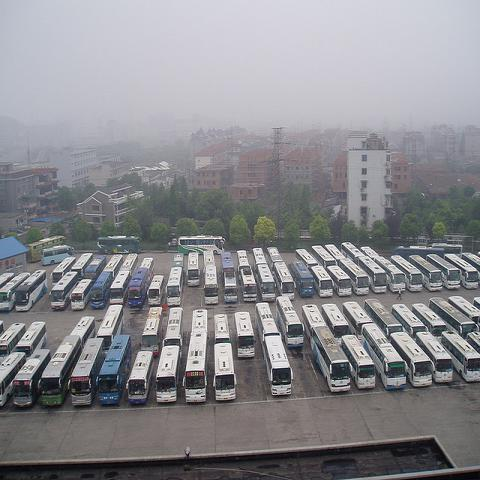bus: (1, 233, 479, 412), (41, 334, 83, 407), (310, 326, 353, 392), (12, 348, 52, 406), (263, 335, 294, 396), (186, 328, 209, 404), (126, 351, 155, 405), (275, 296, 304, 348), (255, 302, 281, 355), (213, 344, 237, 401), (235, 307, 254, 358), (302, 303, 328, 340), (214, 314, 231, 344), (192, 310, 207, 334)
